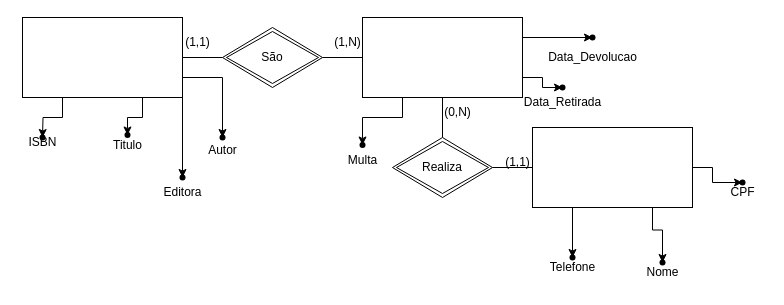
The diagram is 784 pixels wide and 305 high, and some of its shapes have lost their labels. Each missing label, with the centre of its shape:
"Empréstimo" goes at (x=442, y=57).
"Livros" goes at (x=102, y=57).
"Usuário" goes at (x=612, y=167).
